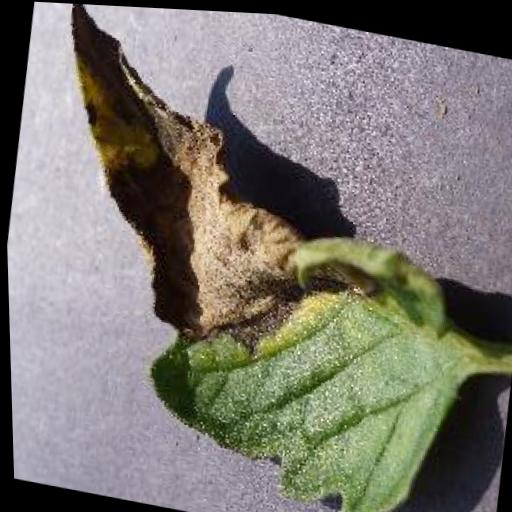Late Blight: (3, 0, 508, 512)
